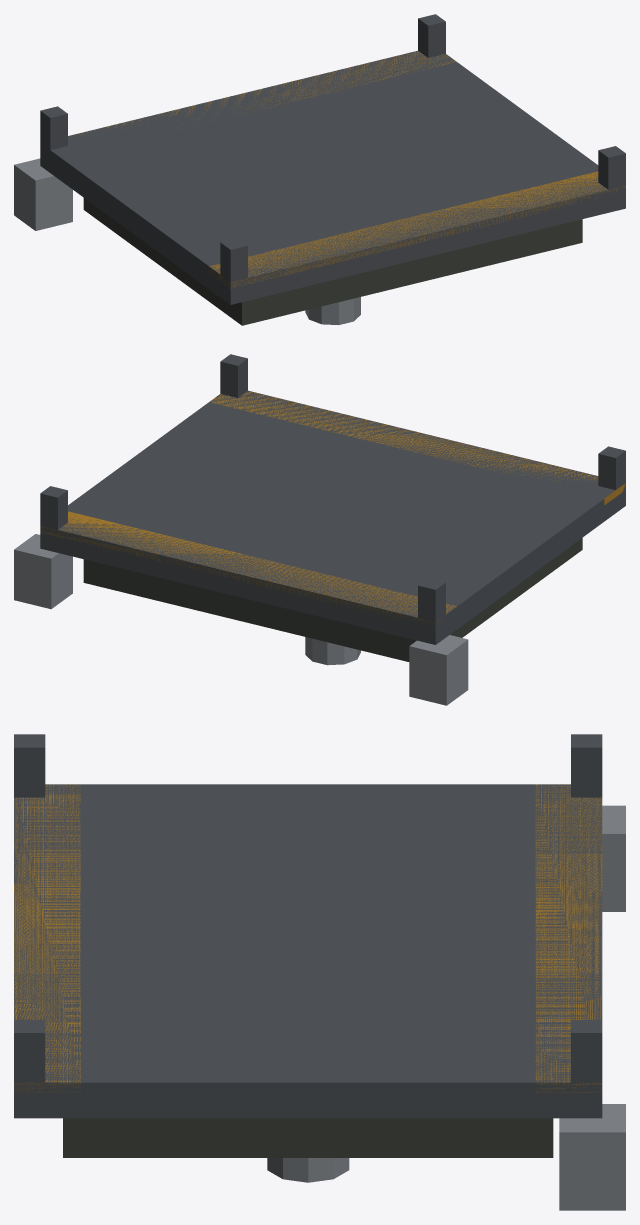
File: RF_Structure_BunkerLift.glb
3 views of the same model, one above another, from view 1: azimuth 30°, elevation 25°; view 2: azimuth 150°, elevation 25°; view 3: azimuth 270°, elevation 25° (orthographic). The views are drawn at different scales.
Visible parts, largest first — view 1: RF_Structure_BunkerLift; view 2: RF_Structure_BunkerLift; view 3: RF_Structure_BunkerLift.
Part boxes in pixels (left/top/right/bottom): RF_Structure_BunkerLift: left=14, top=14, right=625, bottom=325; RF_Structure_BunkerLift: left=14, top=354, right=625, bottom=705; RF_Structure_BunkerLift: left=14, top=734, right=625, bottom=1210.
Size of the model in its own units: 3.94 by 1.58 by 3.12.
